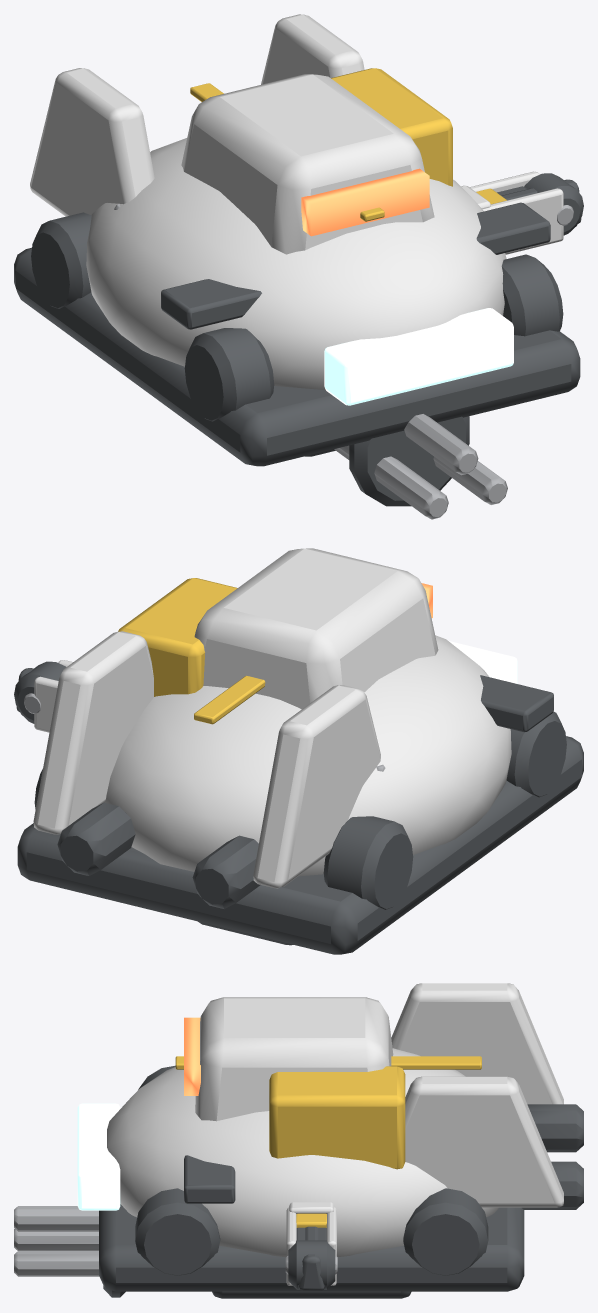
Rendered from burst.glb.
3 renders of one model, top to bottom at view 1: azimuth 30°, elevation 25°; view 2: azimuth 150°, elevation 25°; view 3: azimuth 270°, elevation 25°, orthographic. The views are drawn at different scales.
Visible parts, largest first — view 1: Hull, Turret, Barrel, LegUpper; view 2: Hull, Turret, LegUpper; view 3: Hull, Turret, Barrel, LegUpper, LegLower.
Part boxes in pixels (x1,y1,x2,y2): Hull: [14, 14, 580, 466]; Turret: [181, 68, 452, 254]; Barrel: [304, 414, 507, 519]; LegUpper: [461, 171, 583, 254]; Hull: [17, 631, 583, 954]; Turret: [118, 548, 438, 709]; LegUpper: [14, 660, 72, 732]; Hull: [77, 983, 583, 1291]; Turret: [184, 997, 405, 1169]; Barrel: [14, 1206, 411, 1298]; LegUpper: [285, 1202, 337, 1289]; LegLower: [296, 1213, 326, 1290].
Size of the model in its own units: 0.545 by 0.355 by 0.67.
